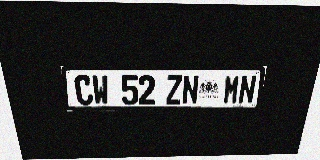2: (138, 75, 155, 105)
5: (121, 75, 138, 105)
C: (74, 75, 93, 105)
M: (222, 75, 241, 104)
N: (238, 75, 257, 104), (182, 75, 199, 104)
W: (91, 75, 110, 105)
Z: (166, 75, 183, 104)
